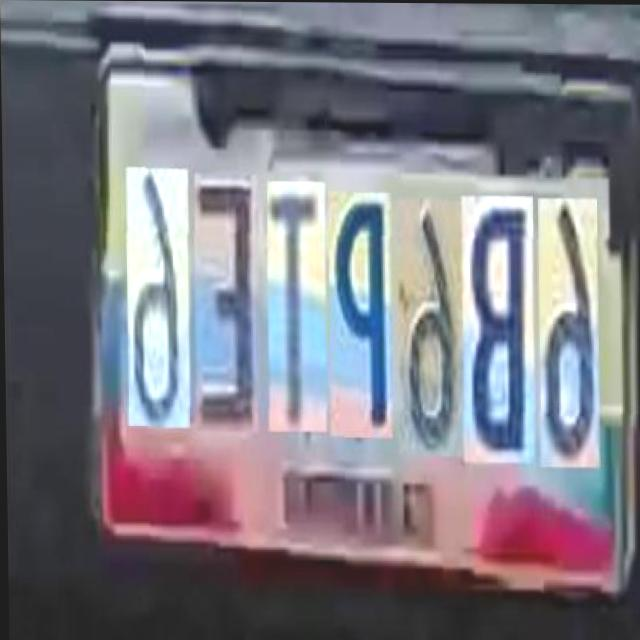6: (398, 193, 465, 450), (125, 166, 191, 426), (537, 190, 599, 459)
b: (461, 189, 535, 457)
e: (193, 172, 260, 430)
p: (328, 187, 393, 434)
t: (266, 178, 327, 428)
